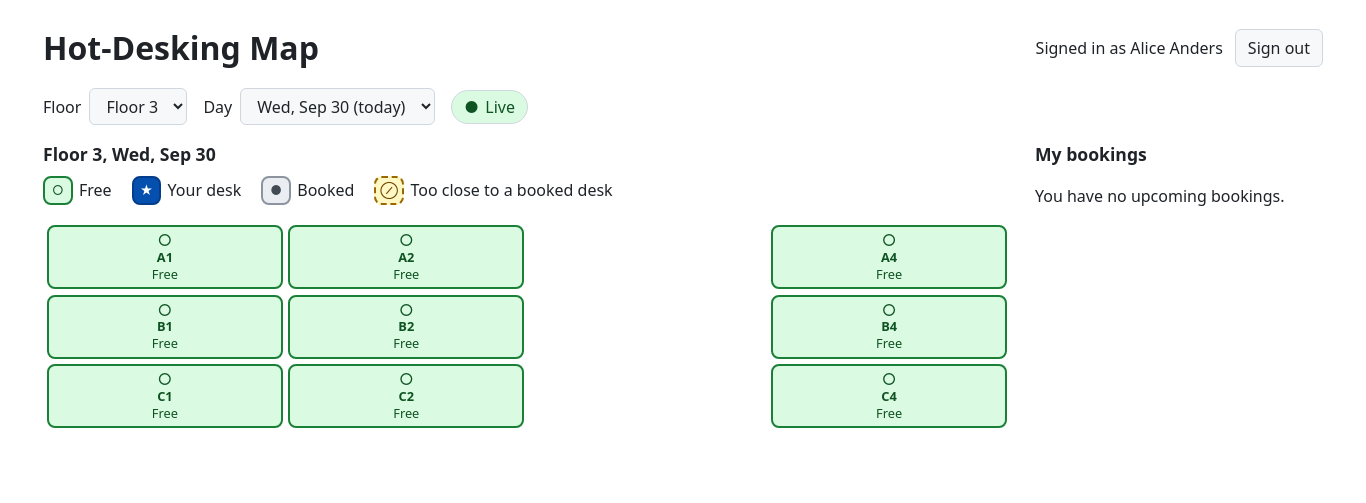
Test: optimistic booking › shows the booking at once, then confirms it
expect the table is shown: met, box [47,225,1007,428]
Click the button "○ A2 Free": (406, 257) [288,225,524,289]
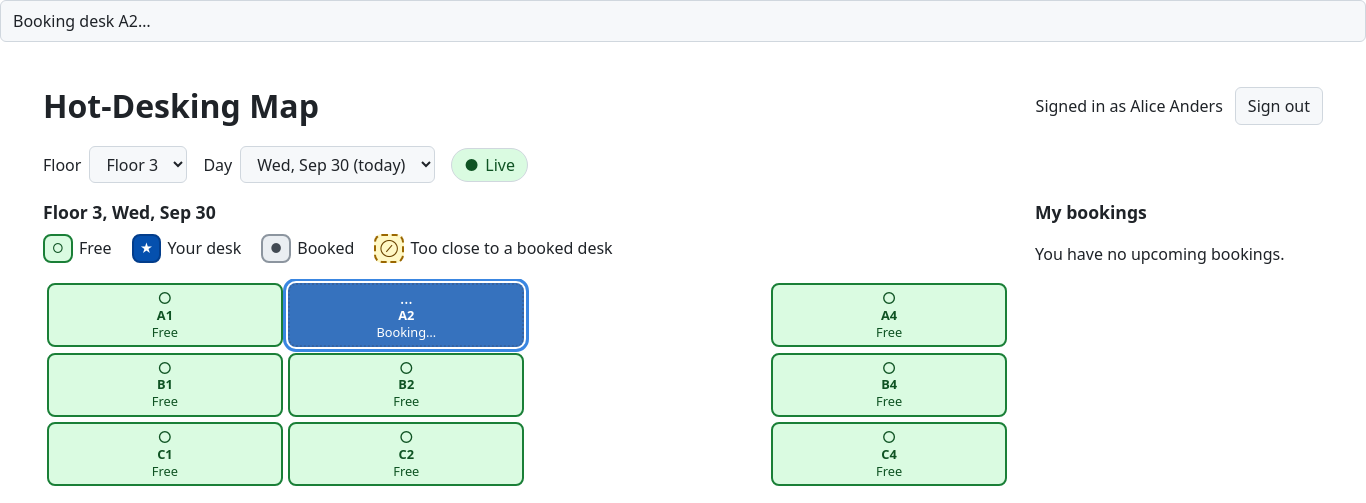
Click the button "… A2 Booking…": (406, 315) [288,283,524,347]
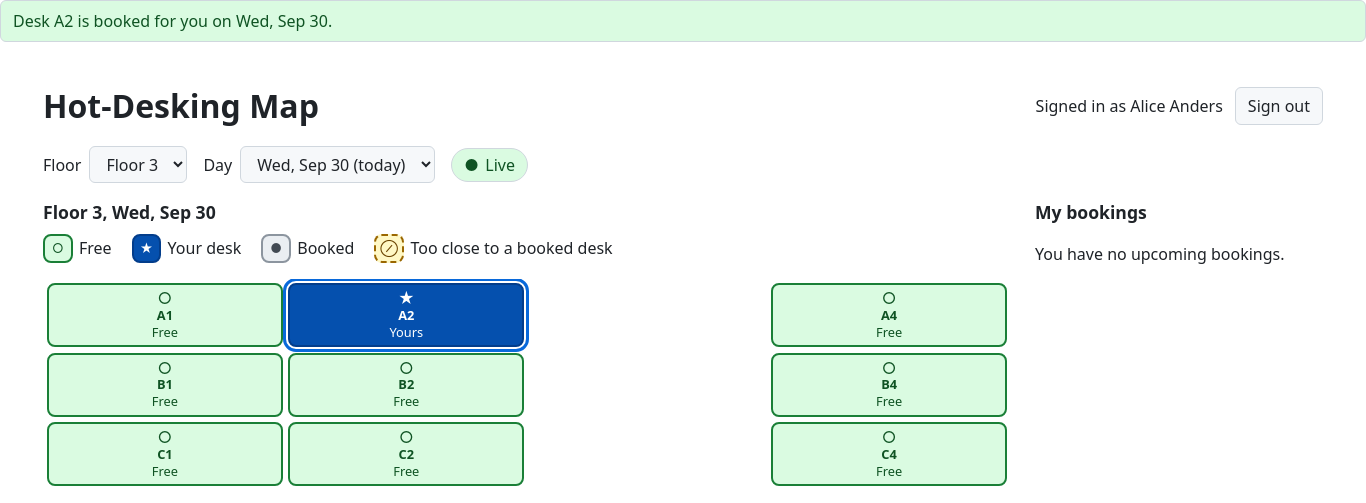
expect the message shows "Desk A2 is booked for you": met, box [13,10,332,32]
